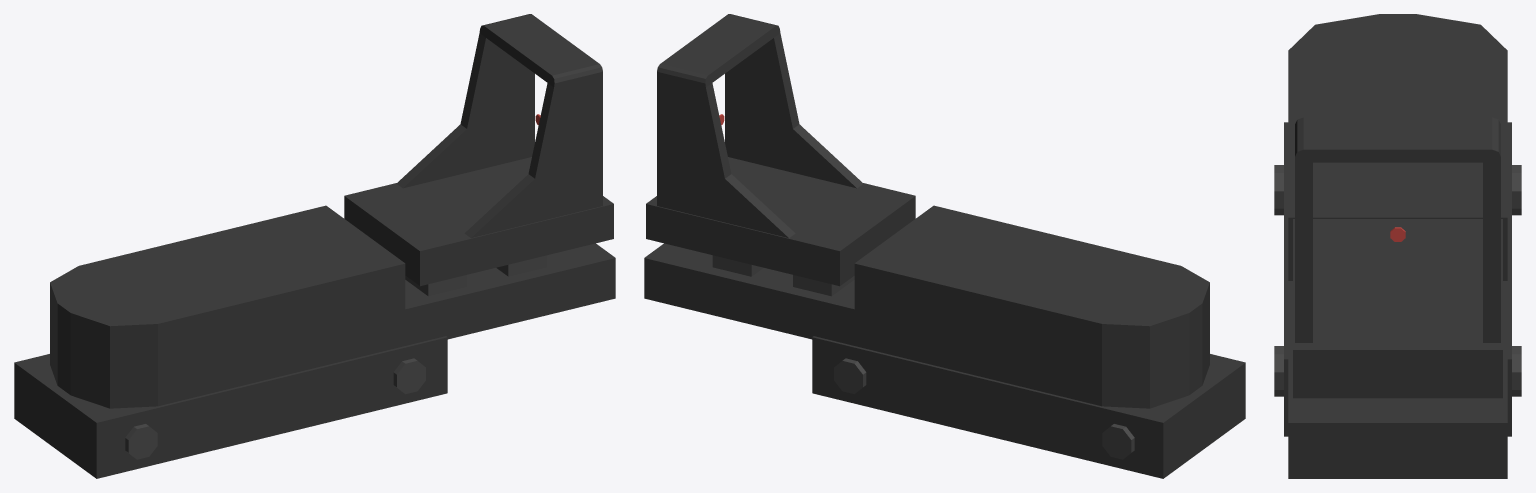
File: Optic_01.fbx
The picture shows the model from 3 angles, left to right: view 1: azimuth 30°, elevation 25°; view 2: azimuth 150°, elevation 25°; view 3: azimuth 270°, elevation 25°; orthographic projection. The views are drawn at different scales.
Visible parts, largest first — view 1: Optic_01; view 2: Optic_01; view 3: Optic_01.
Boxes of the visible parts, bbox=[...] form: Optic_01: bbox=[14, 14, 615, 478]; Optic_01: bbox=[644, 14, 1245, 478]; Optic_01: bbox=[1274, 14, 1521, 478].
Bounding box in the file's own units: 0.0986 × 0.0516 × 0.0293.
